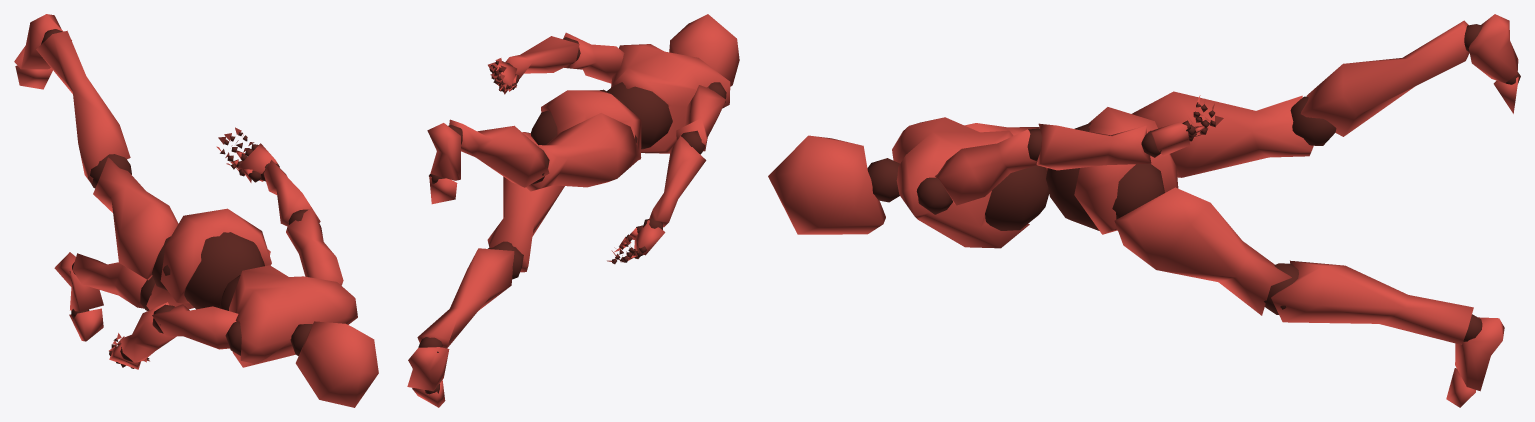
The picture shows the model from 3 angles, left to right: view 1: azimuth 30°, elevation 25°; view 2: azimuth 150°, elevation 25°; view 3: azimuth 270°, elevation 25°; orthographic projection. The views are drawn at different scales.
Parts seen in each view (by area): view 1: Beta_Surface, Beta_Joints; view 2: Beta_Surface, Beta_Joints; view 3: Beta_Surface, Beta_Joints.
Part boxes in pixels (box(x1,y1,x2,y2)): Beta_Surface: box(14, 14, 378, 407); Beta_Joints: box(41, 29, 312, 368); Beta_Surface: box(407, 14, 739, 407); Beta_Joints: box(418, 37, 726, 394); Beta_Surface: box(768, 14, 1518, 407); Beta_Joints: box(867, 24, 1520, 341).
Size of the model in its own units: 0.5698 by 0.9771 by 1.76.
